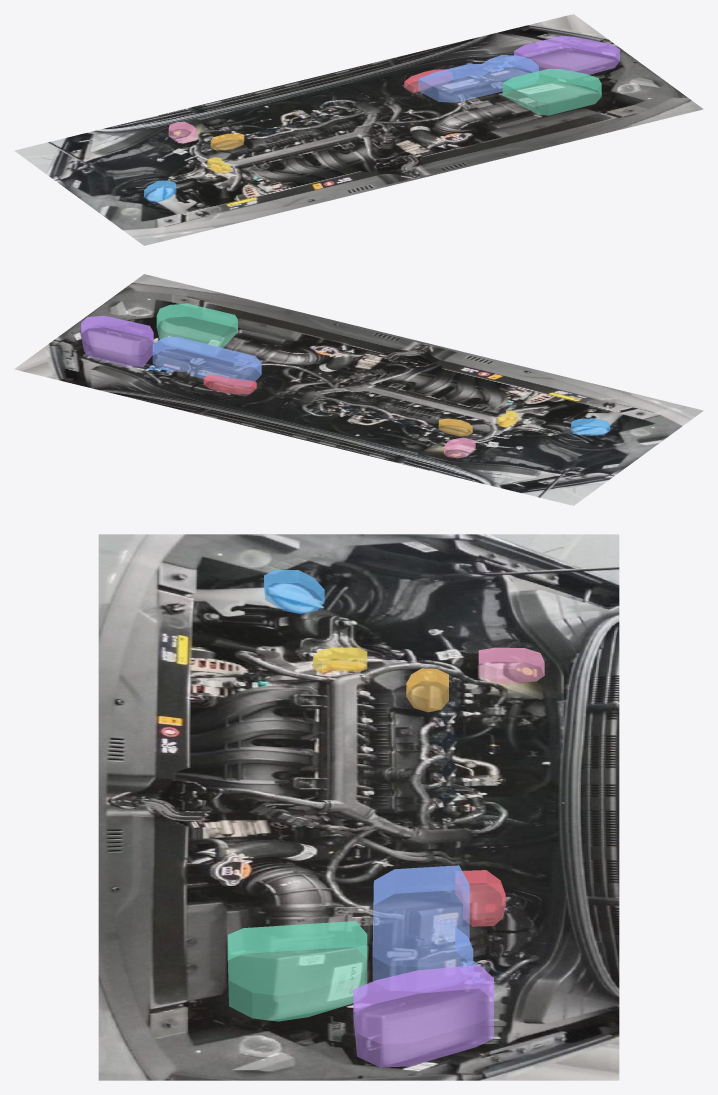
The model's file is kia-rio-2023-photo-reference-inspection.glb.
3 renders of one model, top to bottom at view 1: azimuth 30°, elevation 25°; view 2: azimuth 150°, elevation 25°; view 3: azimuth 270°, elevation 25°, orthographic. The views are drawn at different scales.
Parts seen in each view (by area): view 1: Source photograph, Air filter housing, 12 V battery, Fuse box, Positive battery terminal, Washer filler, Brake fluid reservoir, Oil filler cap; view 2: Source photograph, 12 V battery, Fuse box, Air filter housing, Positive battery terminal, Washer filler, Brake fluid reservoir, Oil filler cap; view 3: Source photograph, Air filter housing, Fuse box, 12 V battery, Positive battery terminal, Washer filler, Brake fluid reservoir, Oil filler cap, Oil dipstick.
Part boxes in pixels (bbox=[...]): Source photograph: bbox=[14, 14, 703, 245]; Air filter housing: bbox=[502, 69, 601, 115]; 12 V battery: bbox=[418, 55, 538, 102]; Fuse box: bbox=[514, 35, 619, 74]; Positive battery terminal: bbox=[404, 69, 450, 92]; Washer filler: bbox=[144, 180, 176, 201]; Brake fluid reservoir: bbox=[168, 122, 196, 143]; Oil filler cap: bbox=[210, 133, 244, 150]; Source photograph: bbox=[14, 274, 703, 505]; 12 V battery: bbox=[152, 336, 261, 387]; Fuse box: bbox=[81, 315, 153, 366]; Air filter housing: bbox=[156, 303, 237, 347]; Positive battery terminal: bbox=[203, 374, 256, 394]; Washer filler: bbox=[571, 418, 610, 435]; Brake fluid reservoir: bbox=[444, 437, 475, 458]; Oil filler cap: bbox=[438, 418, 472, 436]; Source photograph: bbox=[98, 534, 619, 1080]; Air filter housing: bbox=[227, 921, 367, 1021]; Fuse box: bbox=[353, 965, 493, 1067]; 12 V battery: bbox=[372, 865, 473, 981]; Positive battery terminal: bbox=[455, 870, 505, 926]; Washer filler: bbox=[264, 570, 324, 613]; Brake fluid reservoir: bbox=[478, 647, 544, 683]; Oil filler cap: bbox=[406, 668, 448, 712]; Oil dipstick: bbox=[313, 647, 367, 672].
Bounding box in the file's own units: 1 × 0.022 × 0.403.
Materials: 9 (1 with a texture image).
